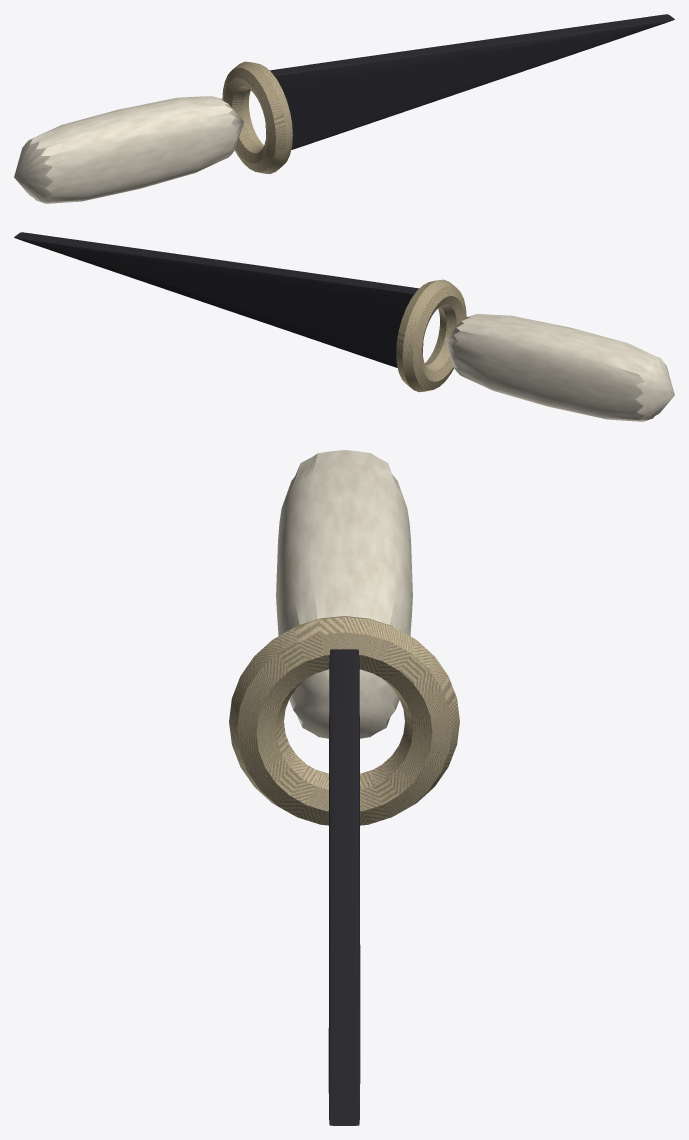
The model's file is obsidian.glb.
3 views of the same model, one above another, from view 1: azimuth 30°, elevation 25°; view 2: azimuth 150°, elevation 25°; view 3: azimuth 270°, elevation 25° (orthographic). The views are drawn at different scales.
Parts seen in each view (by area): view 1: blade, handle, binding; view 2: blade, handle, binding; view 3: binding, handle, blade.
Boxes of the visible parts, x1=… form: blade: x1=265, y1=14, x2=674, y2=149; handle: x1=14, y1=96, x2=243, y2=203; binding: x1=222, y1=61, x2=292, y2=174; blade: x1=14, y1=232, x2=423, y2=367; handle: x1=445, y1=314, x2=674, y2=421; binding: x1=396, y1=279, x2=466, y2=392; binding: x1=229, y1=616, x2=459, y2=825; handle: x1=276, y1=450, x2=412, y2=738; blade: x1=328, y1=649, x2=360, y2=1125.
Bounding box in the file's own units: 0.2763 × 0.042 × 0.042.
1 material, 1 textured.
